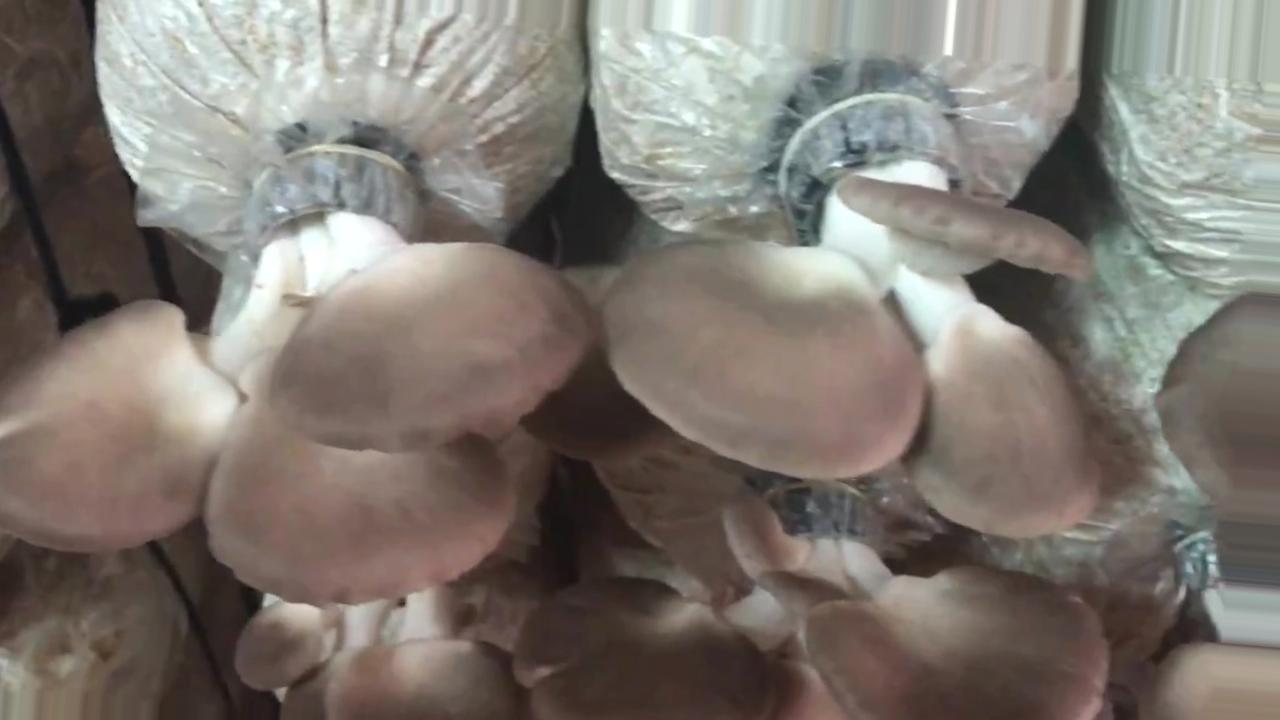nam: (1, 138, 595, 603), (605, 103, 1096, 531), (519, 484, 1105, 720), (239, 581, 523, 720), (1163, 296, 1280, 516), (1139, 538, 1280, 717)
